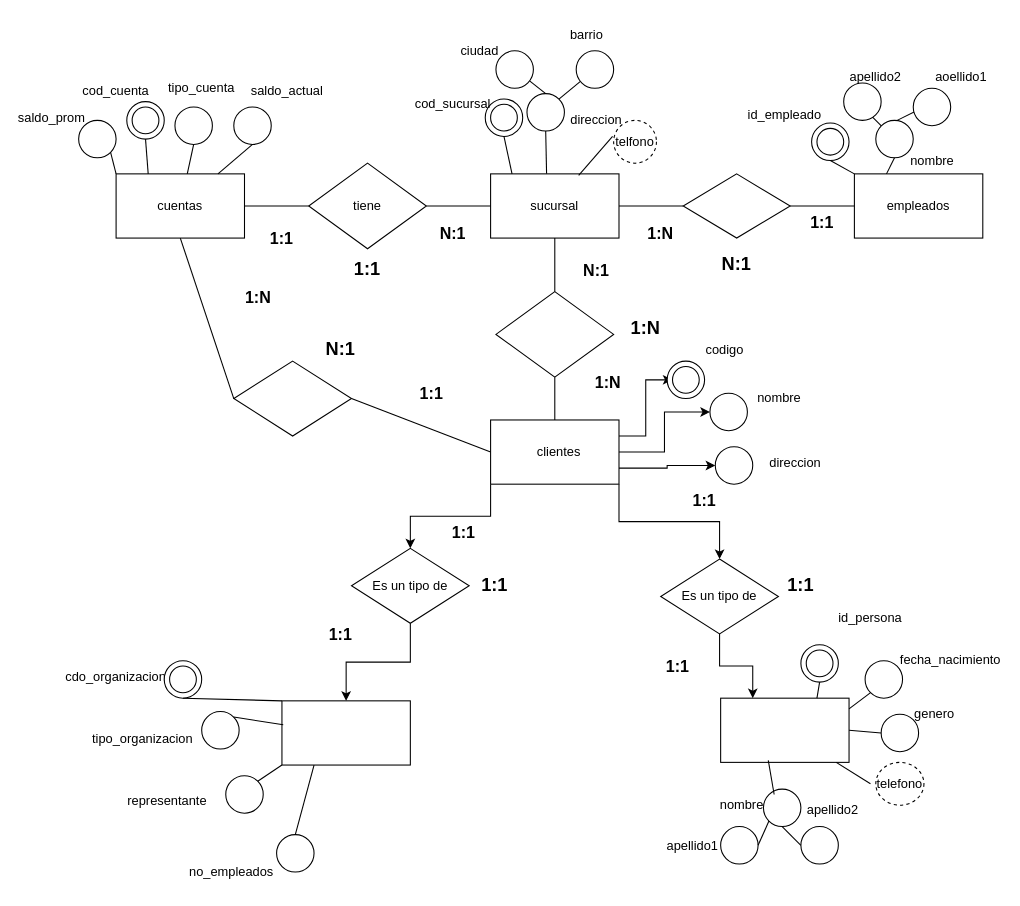
Some shapes in this 1020 by 906 pixel diagram are drawn without their labels. Each missing label, with the centre of its shape:
"organizacion" belongs at [345,732].
"persona" belongs at [784,729].
"posee" belongs at [736,205].
"poseen" belongs at [554,334].
"tienen" belongs at [292,398].
